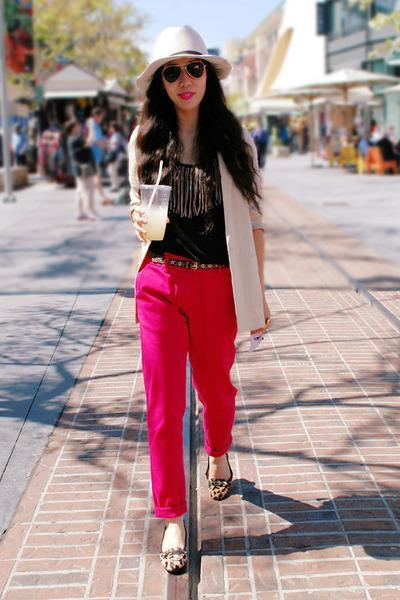jacket: (130, 122, 268, 333)
trousers: (133, 252, 252, 522)
vest: (146, 144, 228, 269)
